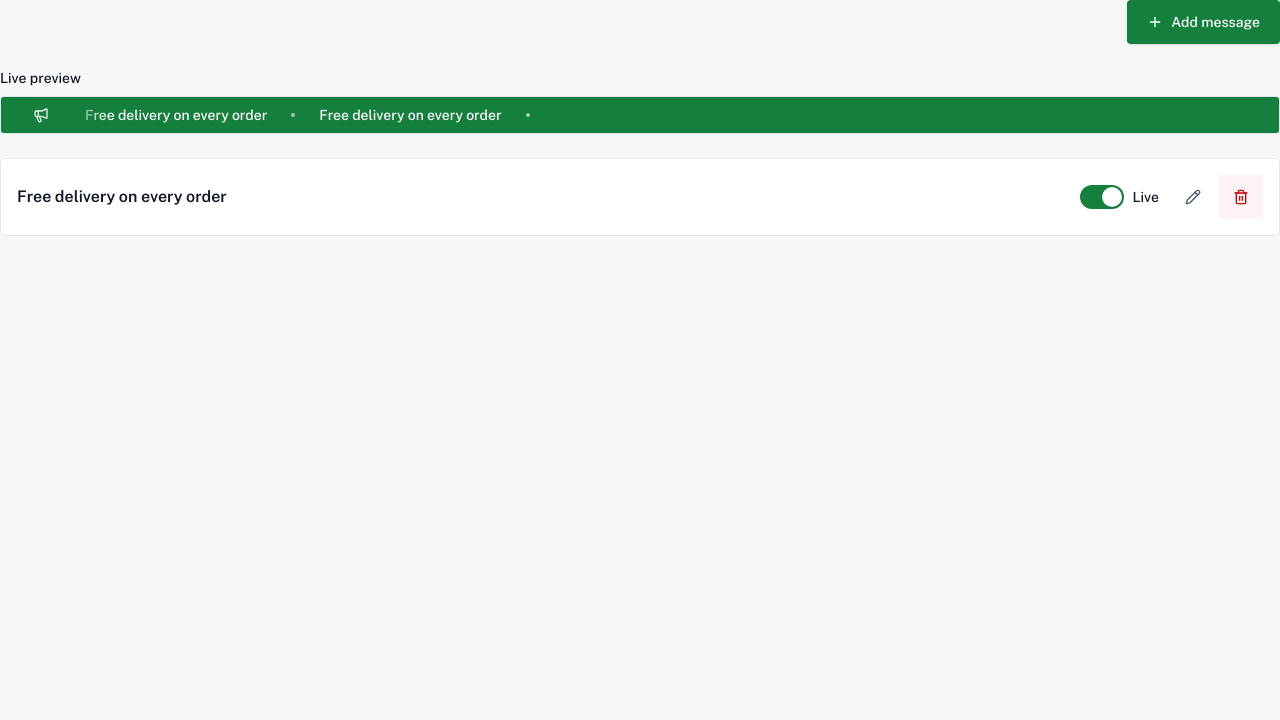
Test case: <AnnouncementAdmin /> (Top bar CRUD) › UPDATE: edits a message with PUT
Step 1. Click the button named "Edit Free delivery on every order" → (1193, 197), box [1171, 175, 1215, 219]
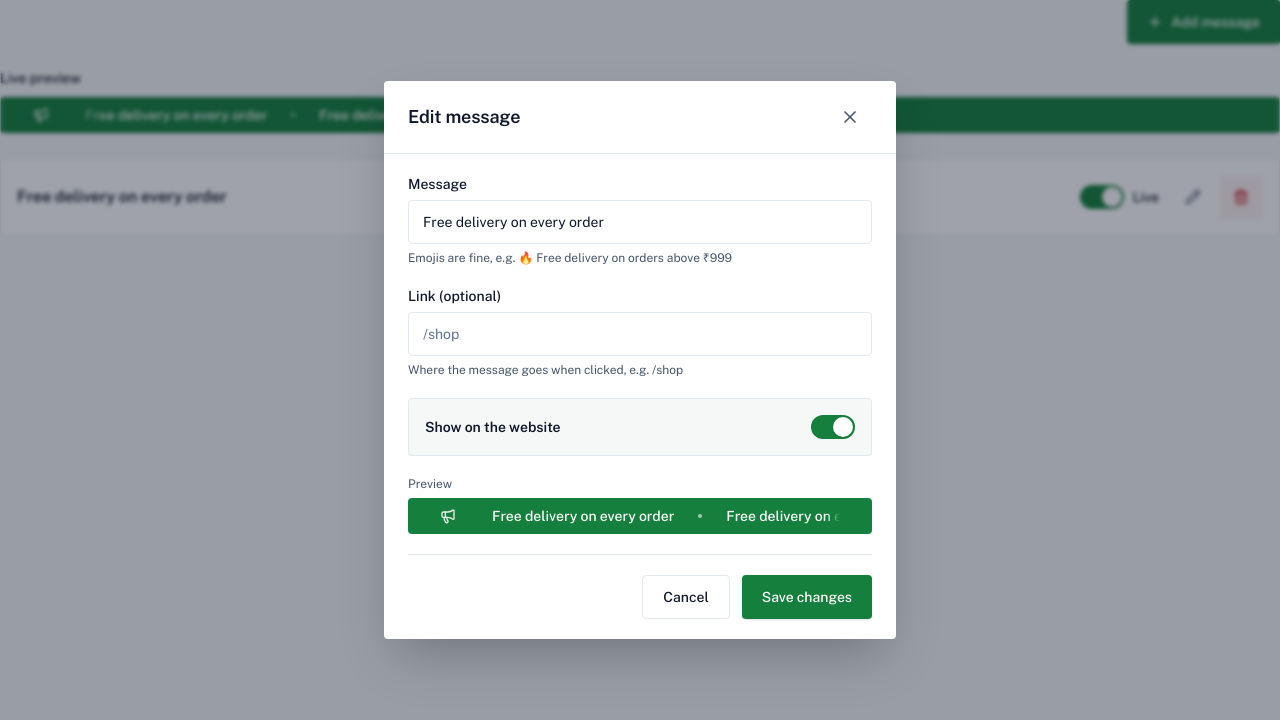
Expected: the field labelled "Message" holds "Free delivery on every order"
Step 2. Clear the field labelled "Message" → (640, 222), box [408, 200, 872, 244]
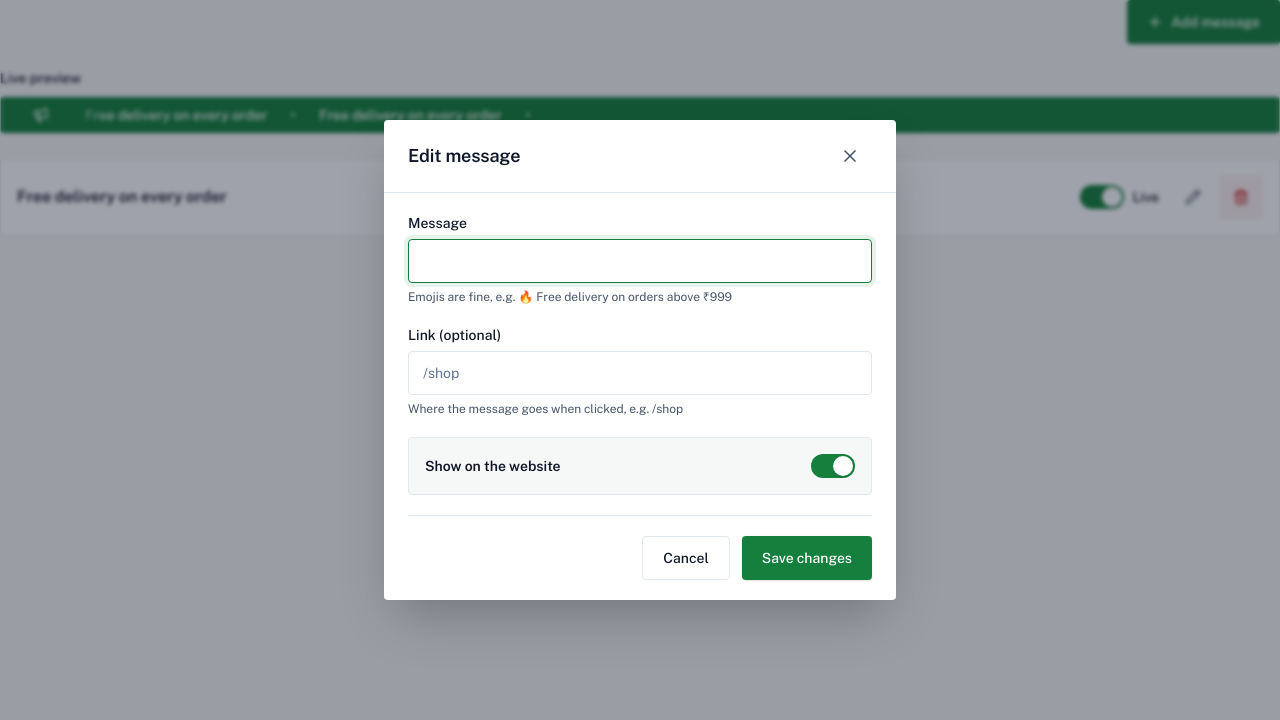
Step 3. Type "Free delivery all over India" into the field labelled "Message" → (640, 261), box [408, 239, 872, 283]
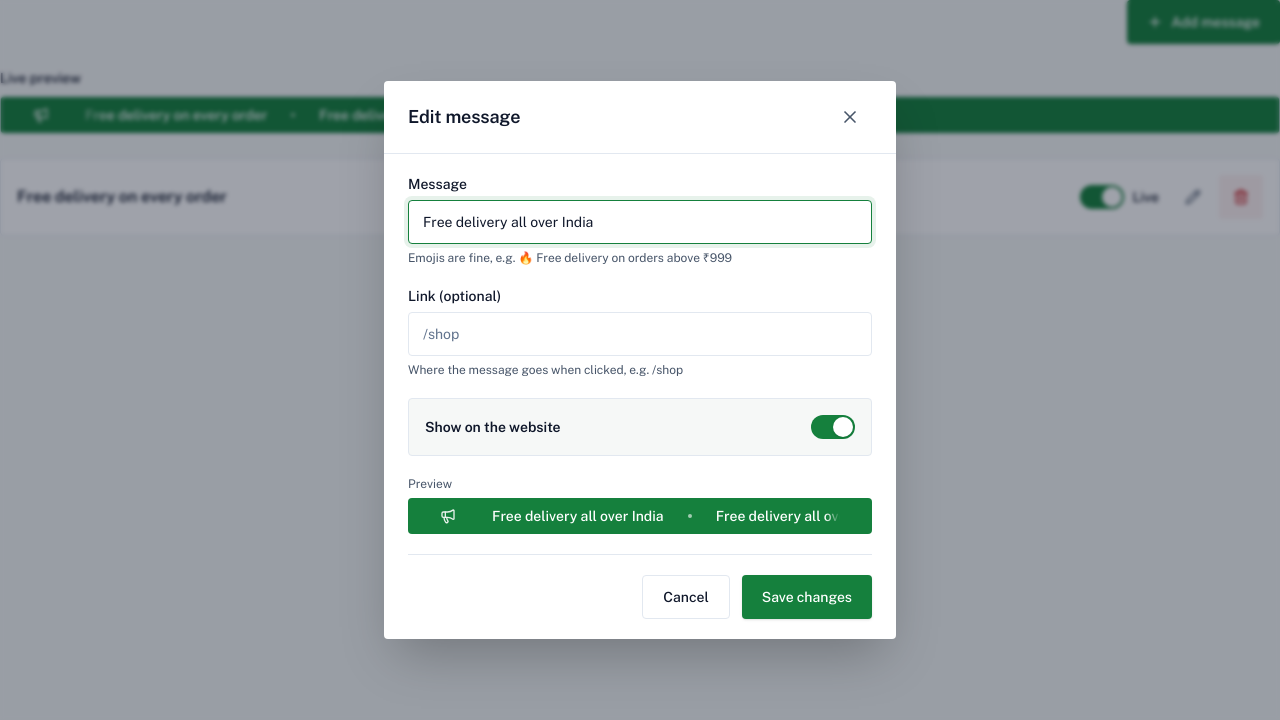
Step 4. Click the button "Save changes" → (807, 597), box [742, 575, 872, 619]
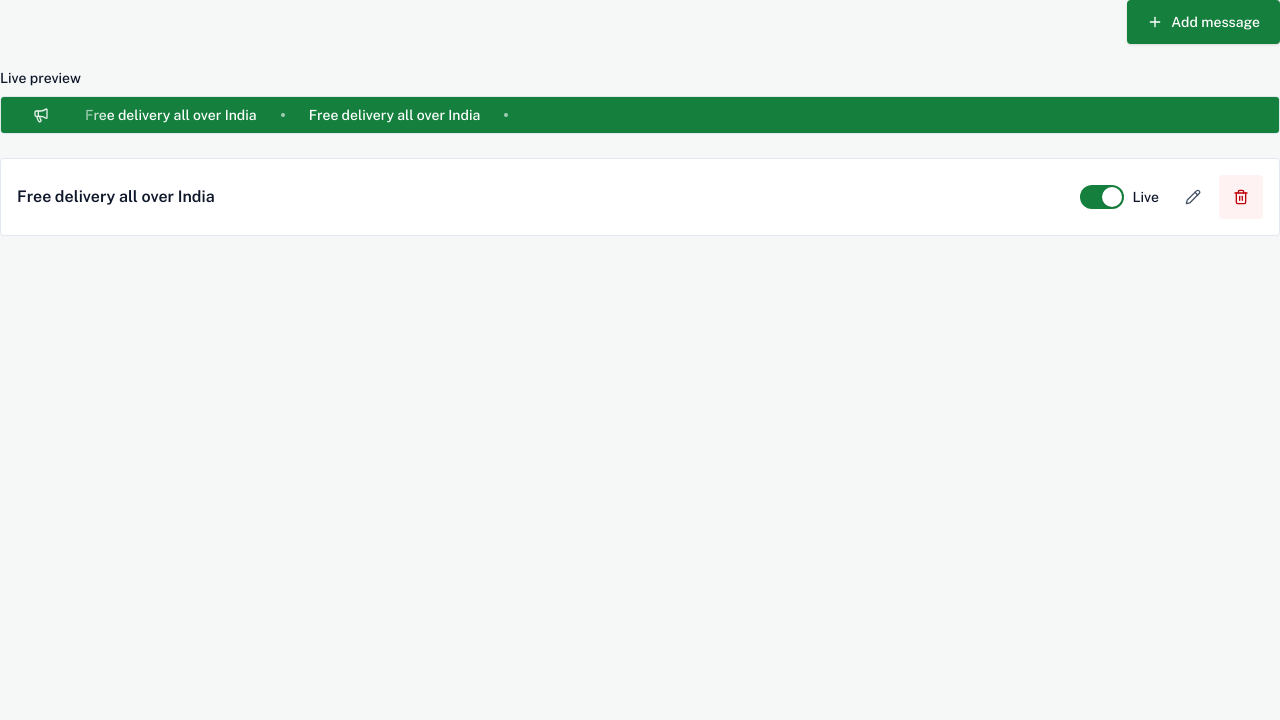
Expected: the 1st text "Free delivery all over India" is shown, [85, 107, 257, 123]
